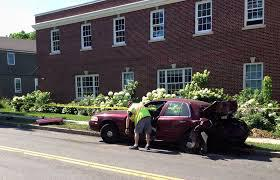bonnet-dent: (201, 98, 239, 117)
